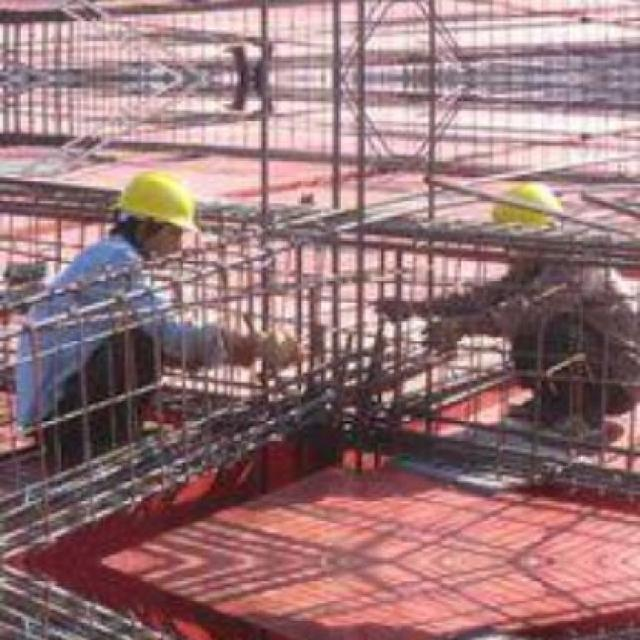helmet: (111, 163, 203, 255), (483, 176, 569, 262)
